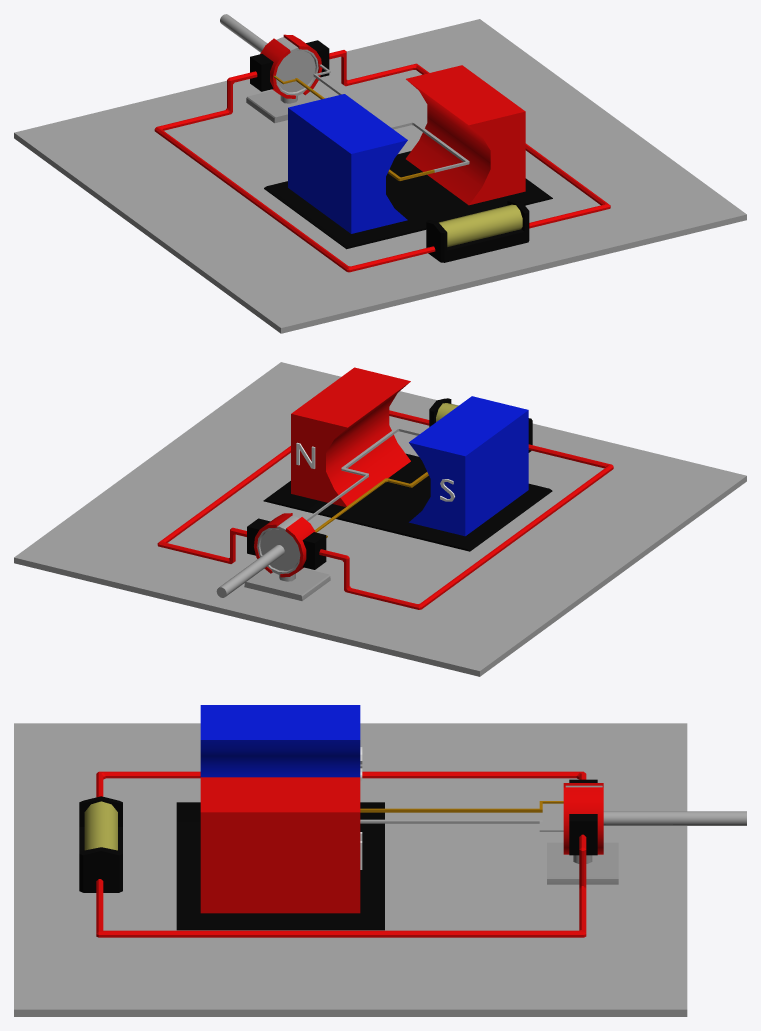
File: Motor level.fbx
3 views of the same model, one above another, from view 1: azimuth 30°, elevation 25°; view 2: azimuth 150°, elevation 25°; view 3: azimuth 270°, elevation 25° (orthographic). The views are drawn at different scales.
Visible parts, largest first — view 1: polySurface10, Permanent_magnet, polySurface9, Wires, Battery, Axle, Small_base, Coil, Split_ring, Brush1; view 2: polySurface10, Permanent_magnet, polySurface9, Wires, Axle, Small_base, Coil, Split_ring, Brush1, Battery; view 3: polySurface10, Permanent_magnet, polySurface9, Wires, Battery, Small_base, Axle, Coil, Split_ring, Brush.
Boxes of the visible parts, x1,y1,x2,y2 form: polySurface10: (14,19,746,333); Permanent_magnet: (288,65,525,233); polySurface9: (264,151,552,249); Wires: (154,50,610,272); Battery: (426,200,529,262); Axle: (220,14,318,96); Small_base: (246,90,320,123); Coil: (273,64,469,180); Split_ring: (260,34,322,98); Brush1: (250,54,273,91); polySurface10: (14,362,746,676); Permanent_magnet: (291,367,528,536); polySurface9: (263,453,552,551); Wires: (157,410,613,609); Axle: (216,515,300,597); Small_base: (244,568,330,600); Coil: (306,427,428,537); Split_ring: (254,513,315,577); Brush1: (302,532,326,569); Battery: (429,398,532,452); polySurface10: (14,723,687,1016); Permanent_magnet: (200,705,362,913); polySurface9: (176,802,384,930); Wires: (96,771,586,937); Battery: (79,796,122,892); Small_base: (547,842,618,884); Axle: (565,785,746,825); Coil: (360,801,563,831); Split_ring: (563,783,603,854); Brush: (569,814,597,855).
Size of the model in its own units: 497 by 92.19 by 537.
